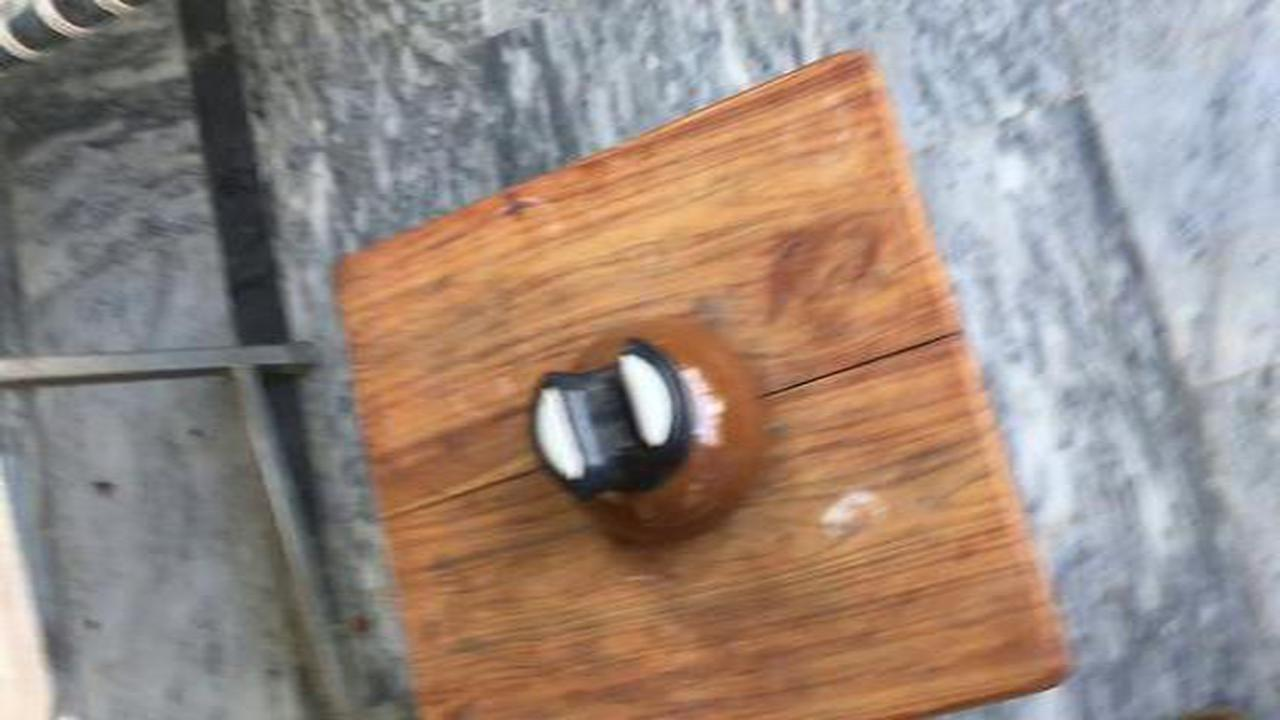insulator_pin: (514, 316, 794, 558)
